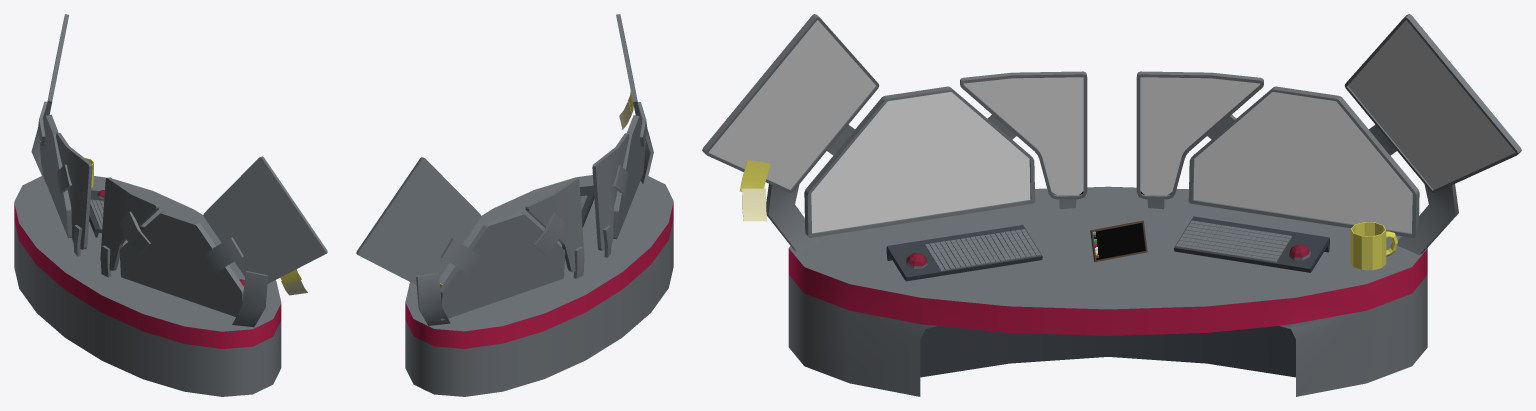
File: Terminal2.fbx
3 views of the same model, side by side, from view 1: azimuth 30°, elevation 25°; view 2: azimuth 150°, elevation 25°; view 3: azimuth 270°, elevation 25° (orthographic). The views are drawn at different scales.
Visible parts, largest first — view 1: Terminal_2_Desk, Terminal_2_Monitors, Terminal_2_Keyboards, Terminal_2_StickyNotes; view 2: Terminal_2_Desk, Terminal_2_Monitors, Terminal_2_Keyboards; view 3: Terminal_2_Monitors, Terminal_2_Desk, Terminal_2_Keyboards, Terminal_2_Mug, Terminal_2_PictureFrame, Terminal_2_StickyNotes.
Part boxes in pixels (box(x1,y1,x2,y2)): Terminal_2_Desk: box(14, 176, 281, 396); Terminal_2_Monitors: box(31, 14, 327, 327); Terminal_2_Keyboards: box(89, 190, 244, 286); Terminal_2_StickyNotes: box(280, 269, 307, 295); Terminal_2_Desk: box(405, 175, 673, 396); Terminal_2_Monitors: box(356, 14, 653, 325); Terminal_2_Keyboards: box(544, 185, 594, 229); Terminal_2_Monitors: box(702, 14, 1521, 254); Terminal_2_Desk: box(788, 186, 1427, 396); Terminal_2_Keyboards: box(886, 216, 1329, 281); Terminal_2_Mug: box(1350, 222, 1397, 270); Terminal_2_PictureFrame: box(1090, 220, 1147, 261); Terminal_2_StickyNotes: box(739, 160, 770, 221).
Bounding box in the file's own units: 0.0905 × 0.1187 × 0.2554.
